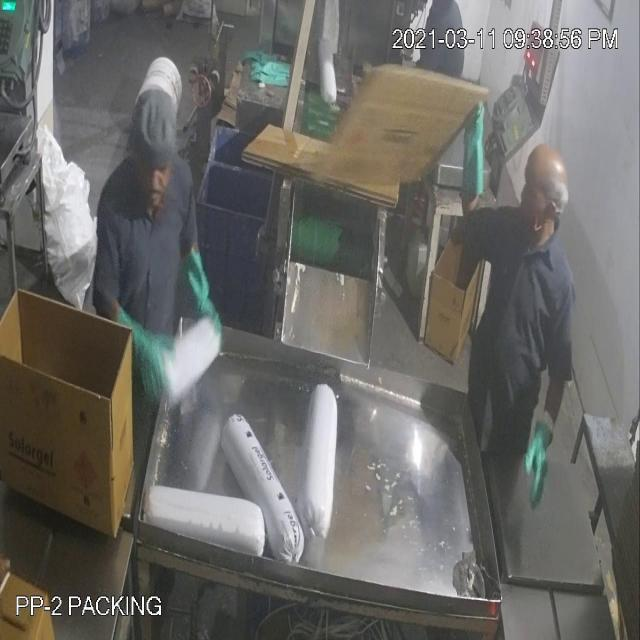Gloves: (32, 108, 542, 462)
